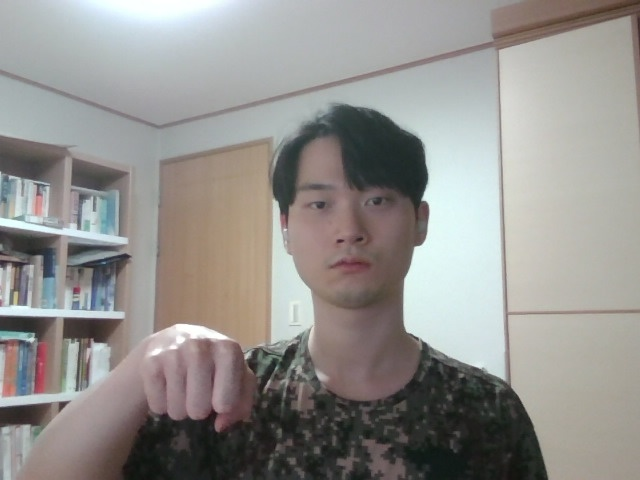yes: (100, 310, 298, 445)
